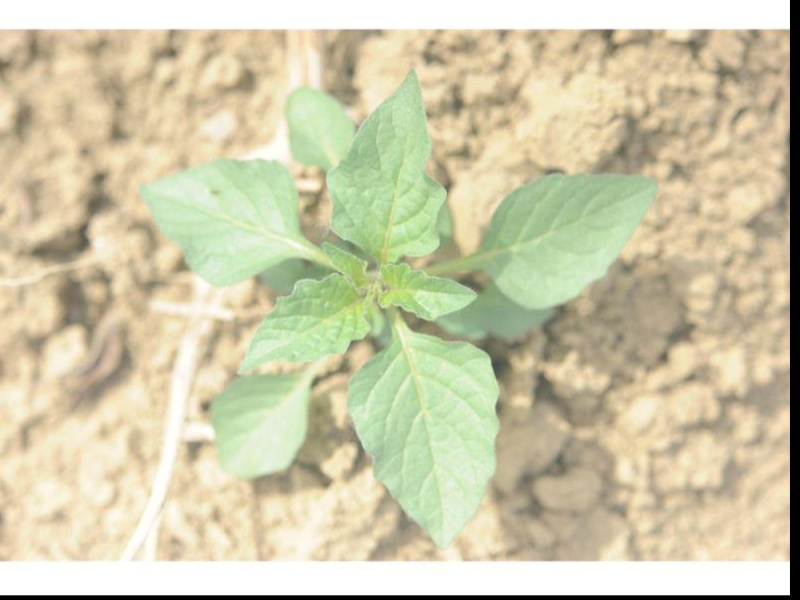nightshade: (137, 64, 659, 545)
